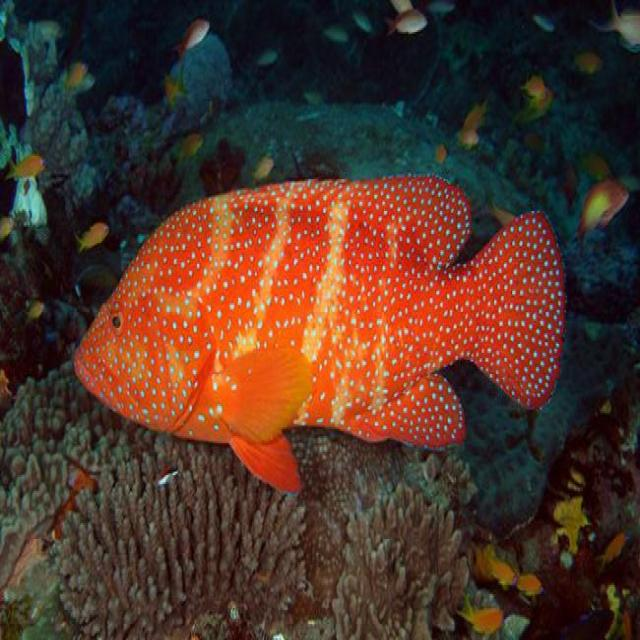ikan: (72, 170, 566, 497)
